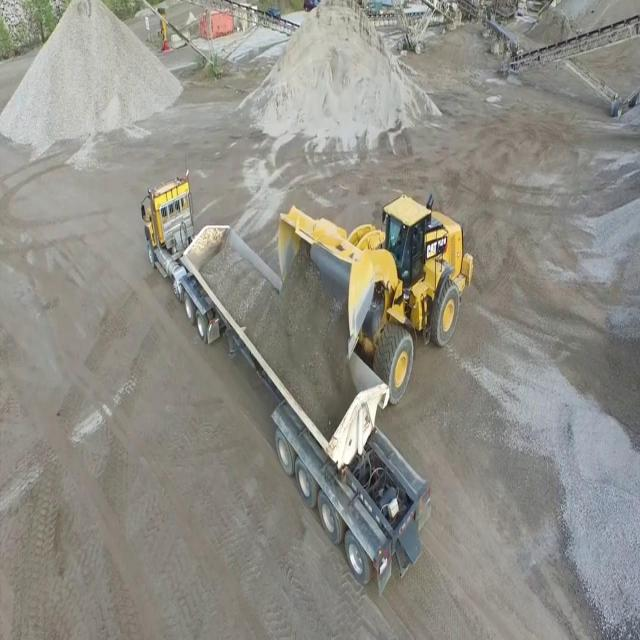Dump Truck: (140, 164, 432, 600)
Loader: (275, 191, 475, 410)
